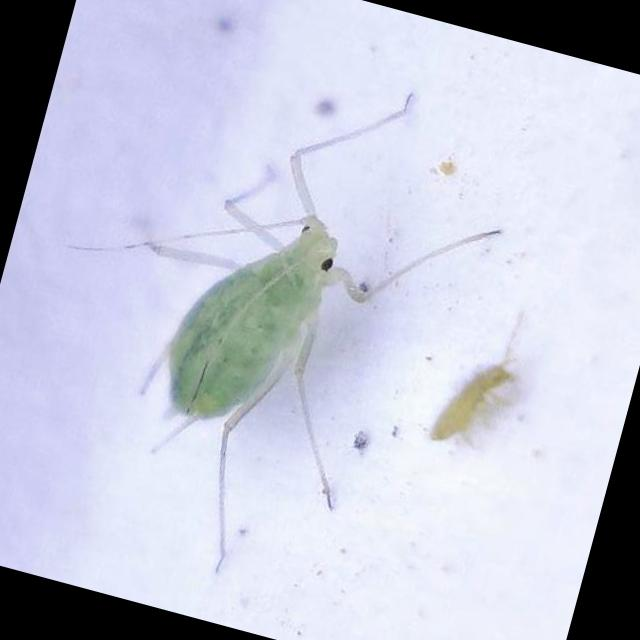aphid: (99, 87, 479, 555)
